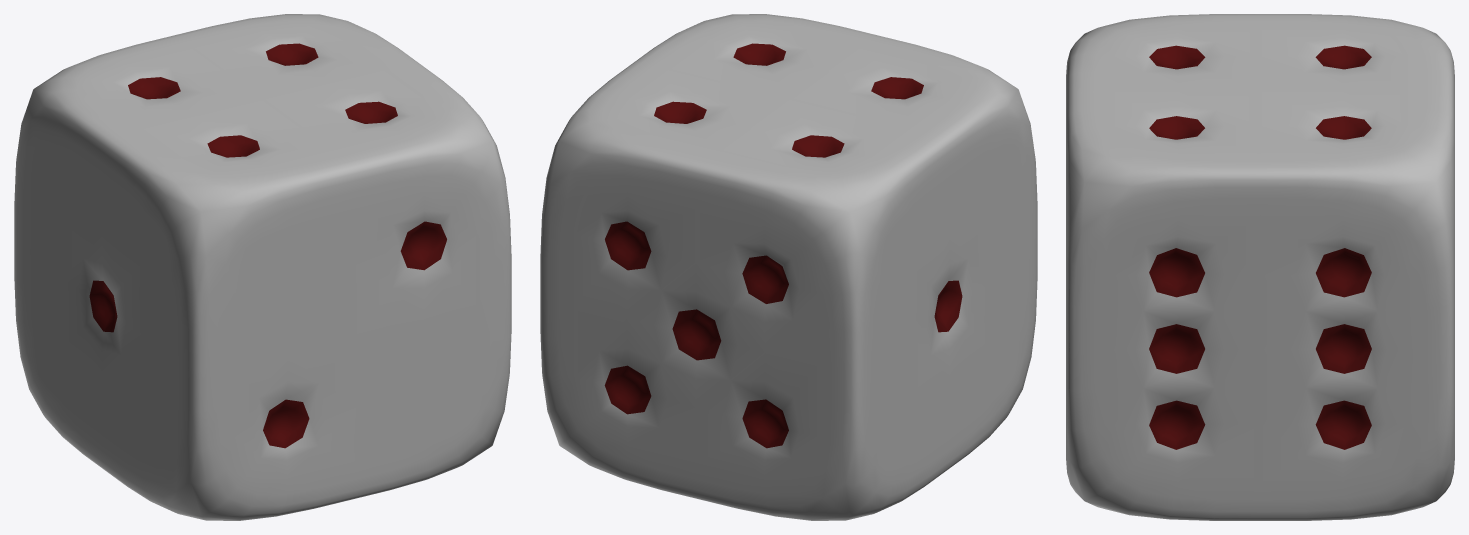
The model's file is Dado02.FBX.
3 renders of one model, left to right at view 1: azimuth 30°, elevation 25°; view 2: azimuth 150°, elevation 25°; view 3: azimuth 270°, elevation 25°, orthographic. The views are drawn at different scales.
Visible parts, largest first — view 1: Box001; view 2: Box001; view 3: Box001.
Boxes of the visible parts, box(x1,y1,x2,y2) form: Box001: box(14, 14, 511, 520); Box001: box(540, 14, 1037, 520); Box001: box(1066, 14, 1454, 520).
Size of the model in its own units: 30 by 30 by 30.
